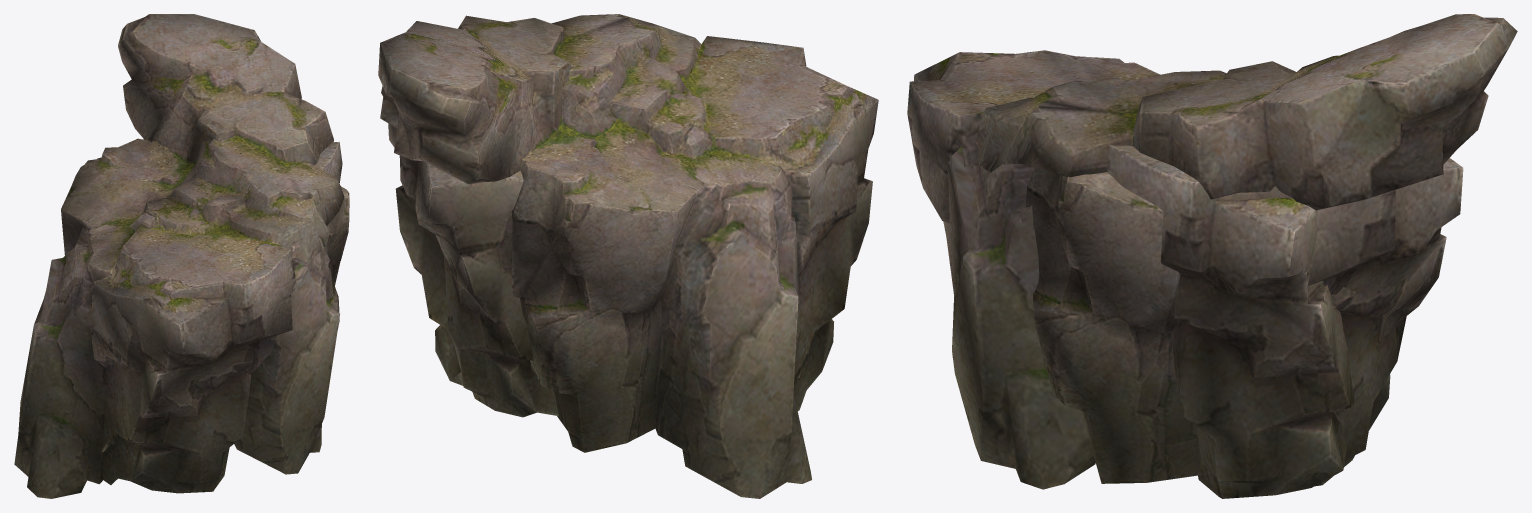
The model's file is m_shitou_01.FBX.
3 views of the same model, side by side, from view 1: azimuth 30°, elevation 25°; view 2: azimuth 150°, elevation 25°; view 3: azimuth 270°, elevation 25° (orthographic). The views are drawn at different scales.
Visible parts, largest first — view 1: m_shitou_01; view 2: m_shitou_01; view 3: m_shitou_01.
Part boxes in pixels (<box>): m_shitou_01: <box>14,14,349,498</box>; m_shitou_01: <box>378,14,878,498</box>; m_shitou_01: <box>907,14,1517,498</box>.
Bounding box in the file's own units: 489 × 515 × 561.
